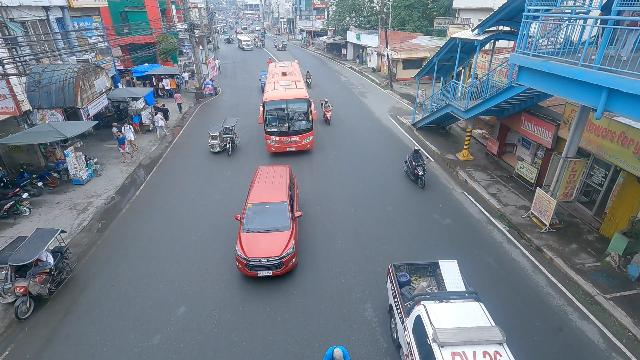bus: (261, 60, 318, 153)
car: (229, 159, 301, 283), (241, 23, 248, 30), (236, 29, 243, 35), (255, 24, 261, 31)
jeepney: (237, 35, 253, 53)
motorcycle: (403, 144, 429, 192), (321, 97, 335, 125), (304, 68, 314, 90)
truck: (383, 256, 517, 360)
